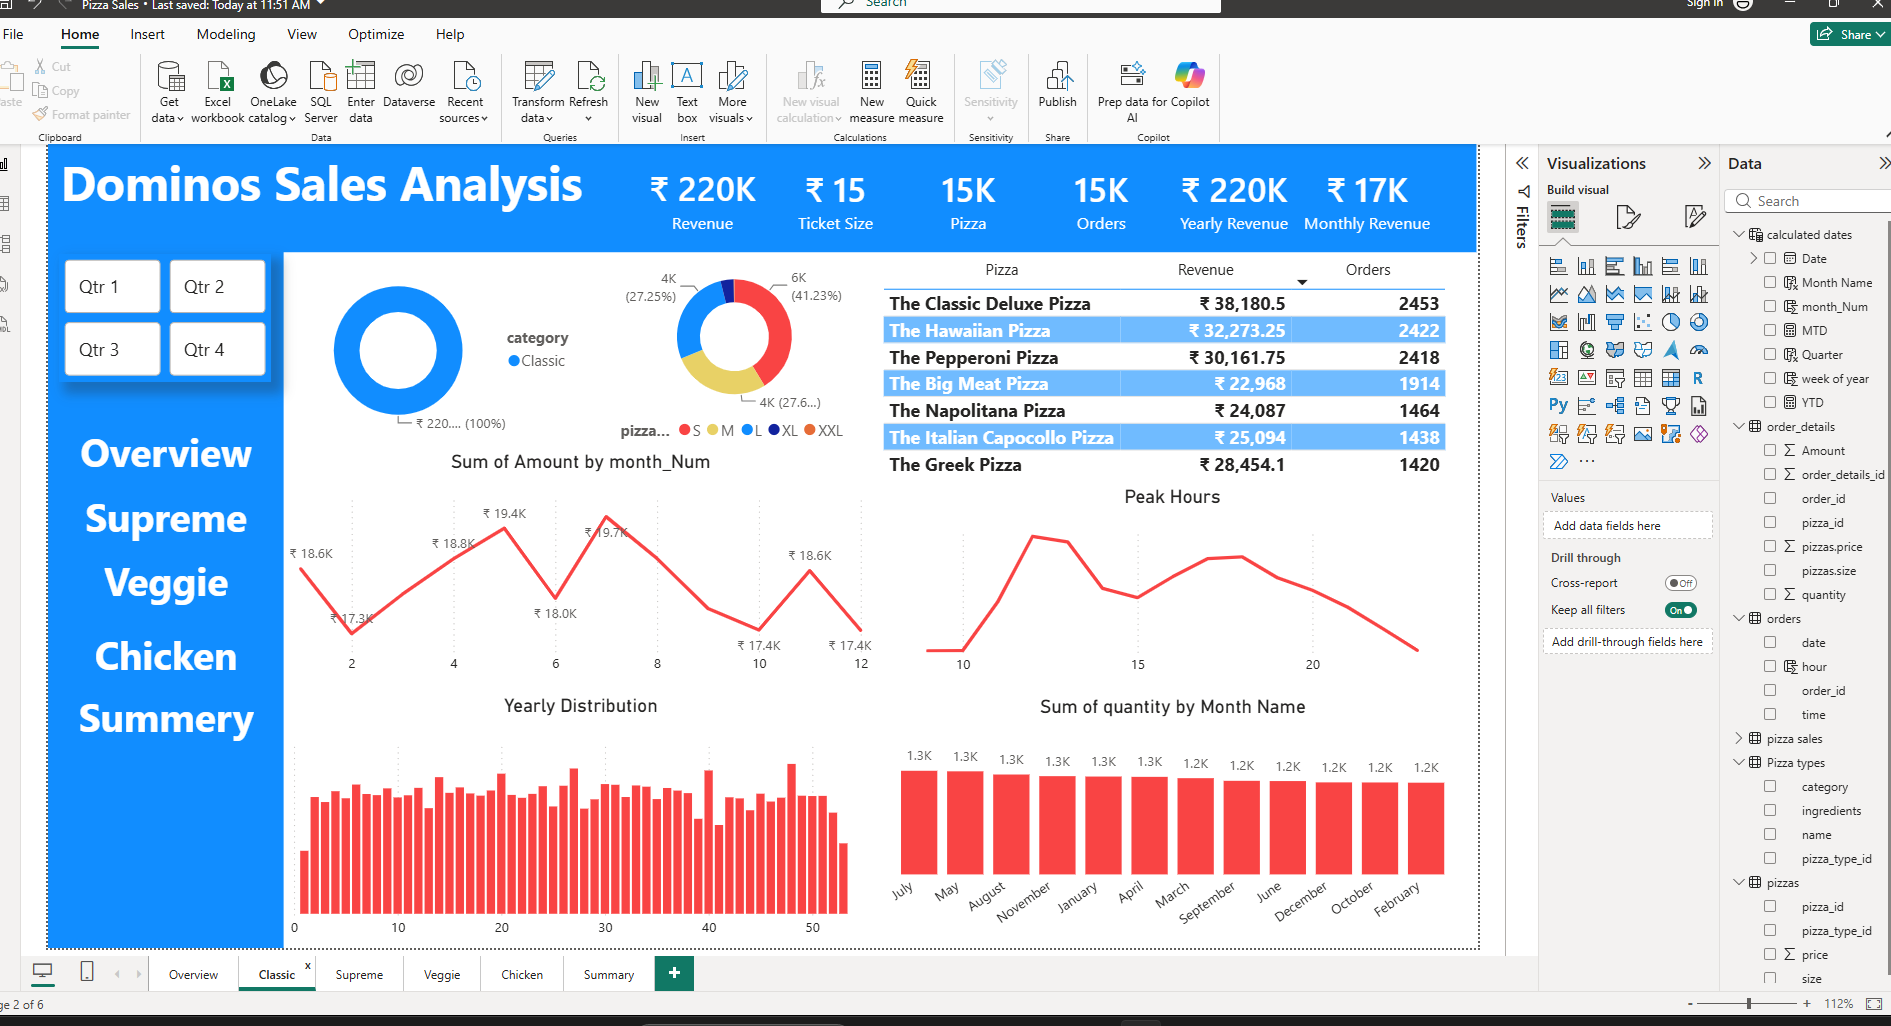

This screenshot's page, from the dashboard's own definition file:
{"tool":"powerbi","page":{"name":"Classic","canvas":[1280,720],"ordinal":1},"visuals":[{"type":"shape","box":[0,0,211.4,720],"z":0},{"type":"shape","box":[204.6,0,1075.4,96.9],"z":1000},{"type":"textbox","box":[0,0,490,96.2],"z":2000},{"type":"cardVisual","fields":{"Data":["Sum(order_details.Amount)","Avg(order_details.Amount)","Sum(order_details.quantity)","CountNonNull(order_details.order_id)","calculated dates.YTD","calculated dates.MTD"]},"box":[490,0,790,98.6],"z":3000},{"type":"advancedSlicerVisual","fields":{"Values":["calculated dates.Quarter"]},"box":[10,98.5,190,114.6],"z":5000},{"type":"columnChart","title":"Yearly Distribution","fields":{"Y":["Sum(order_details.Amount)"],"Category":["calculated dates.week of year"]},"box":[211.4,492.9,531.4,227.1],"z":6000},{"type":"lineChart","fields":{"Y":["Sum(order_details.Amount)"],"Category":["calculated dates.month_Num"]},"box":[211.4,274.3,531.4,210],"z":7000},{"type":"donutChart","fields":{"Category":["order_details.pizzas.size"],"Y":["Sum(order_details.quantity)"]},"box":[496.1,99.4,237.1,175.7],"z":8000},{"type":"tableEx","fields":{"Values":["Pizza types.name","Sum(order_details.Amount)","Sum(order_details.quantity)"]},"box":[742.4,97.6,537.3,205.1],"z":9000},{"type":"lineChart","title":"Peak Hours","fields":{"Category":["orders.hour"],"Y":["CountNonNull(order_details.order_details_id)"]},"box":[741.5,305.4,531,179.1],"z":10000},{"type":"columnChart","fields":{"Category":["calculated dates.Month Name"],"Y":["Sum(order_details.quantity)"]},"box":[742,493,530,227],"z":11000},{"type":"actionButton","box":[21.4,247.1,168.6,55.7],"z":12000},{"type":"actionButton","box":[21.4,305.7,168.6,55.7],"z":13000},{"type":"actionButton","box":[21.4,362.9,168.6,55.7],"z":14000},{"type":"actionButton","box":[21.1,428.9,168.6,55.7],"z":15000},{"type":"actionButton","box":[21.4,484.3,168.6,55.7],"z":16000},{"type":"donutChart","title":"Category Wise Revenue","fields":{"Category":["Pizza types.category"],"Y":["Sum(order_details.Amount)"]},"box":[211.3,95.8,278.5,178.2],"z":16001}]}

Visuals, with their boxes on the page's 1280x720 design canvas (x1, y1, x2, y2). These are canvas units, not pixel positions in the 1891x1026 screenshot, which may show the page scaled, cropped or inside an application window:
shape: (x1=0, y1=0, x2=211, y2=720)
shape: (x1=205, y1=0, x2=1280, y2=97)
textbox: (x1=0, y1=0, x2=490, y2=96)
cardVisual - Sum(order_details.Amount) x Avg(order_details.Amount): (x1=490, y1=0, x2=1280, y2=99)
advancedSlicerVisual - calculated dates.Quarter: (x1=10, y1=98, x2=200, y2=213)
"Yearly Distribution" columnChart: (x1=211, y1=493, x2=743, y2=720)
lineChart - Sum(order_details.Amount) x calculated dates.month_Num: (x1=211, y1=274, x2=743, y2=484)
donutChart - order_details.pizzas.size x Sum(order_details.quantity): (x1=496, y1=99, x2=733, y2=275)
tableEx - Pizza types.name x Sum(order_details.Amount): (x1=742, y1=98, x2=1280, y2=303)
"Peak Hours" lineChart: (x1=742, y1=305, x2=1272, y2=484)
columnChart - calculated dates.Month Name x Sum(order_details.quantity): (x1=742, y1=493, x2=1272, y2=720)
actionButton: (x1=21, y1=247, x2=190, y2=303)
actionButton: (x1=21, y1=306, x2=190, y2=361)
actionButton: (x1=21, y1=363, x2=190, y2=419)
actionButton: (x1=21, y1=429, x2=190, y2=485)
actionButton: (x1=21, y1=484, x2=190, y2=540)
"Category Wise Revenue" donutChart: (x1=211, y1=96, x2=490, y2=274)
